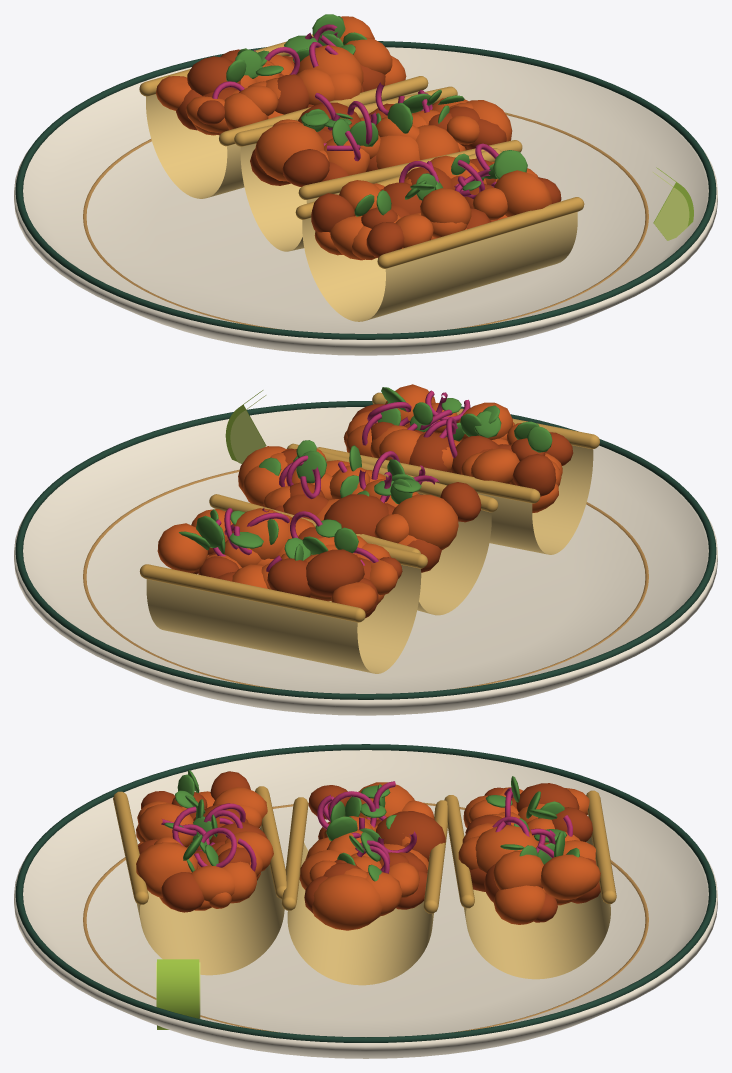
The model's file is tacos-cochinita.glb.
3 renders of one model, top to bottom at view 1: azimuth 30°, elevation 25°; view 2: azimuth 150°, elevation 25°; view 3: azimuth 270°, elevation 25°, orthographic.
Visible parts, largest first — view 1: plato, tacos-cochinita-pibil, tortilla (×3); view 2: plato, tacos-cochinita-pibil, tortilla (×3); view 3: plato, tacos-cochinita-pibil, tortilla (×3).
Boxes of the visible parts, left/top/right/bottom form: plato: left=14, top=47, right=717, bottom=355; tacos-cochinita-pibil: left=15, top=14, right=716, bottom=339; tortilla (×3): left=146, top=55, right=577, bottom=321; plato: left=14, top=407, right=717, bottom=715; tacos-cochinita-pibil: left=15, top=384, right=716, bottom=699; tortilla (×3): left=146, top=445, right=593, bottom=673; plato: left=14, top=750, right=717, bottom=1058; tacos-cochinita-pibil: left=15, top=744, right=716, bottom=1042; tortilla (×3): left=136, top=826, right=610, bottom=985.
Size of the model in its own units: 0.3 by 0.0739 by 0.3.
